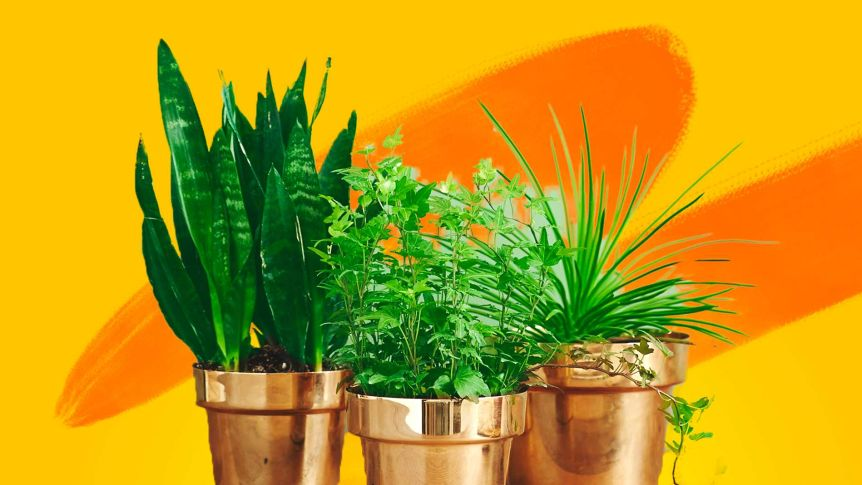plant: (478, 96, 771, 485), (133, 36, 359, 485), (317, 121, 545, 485)
